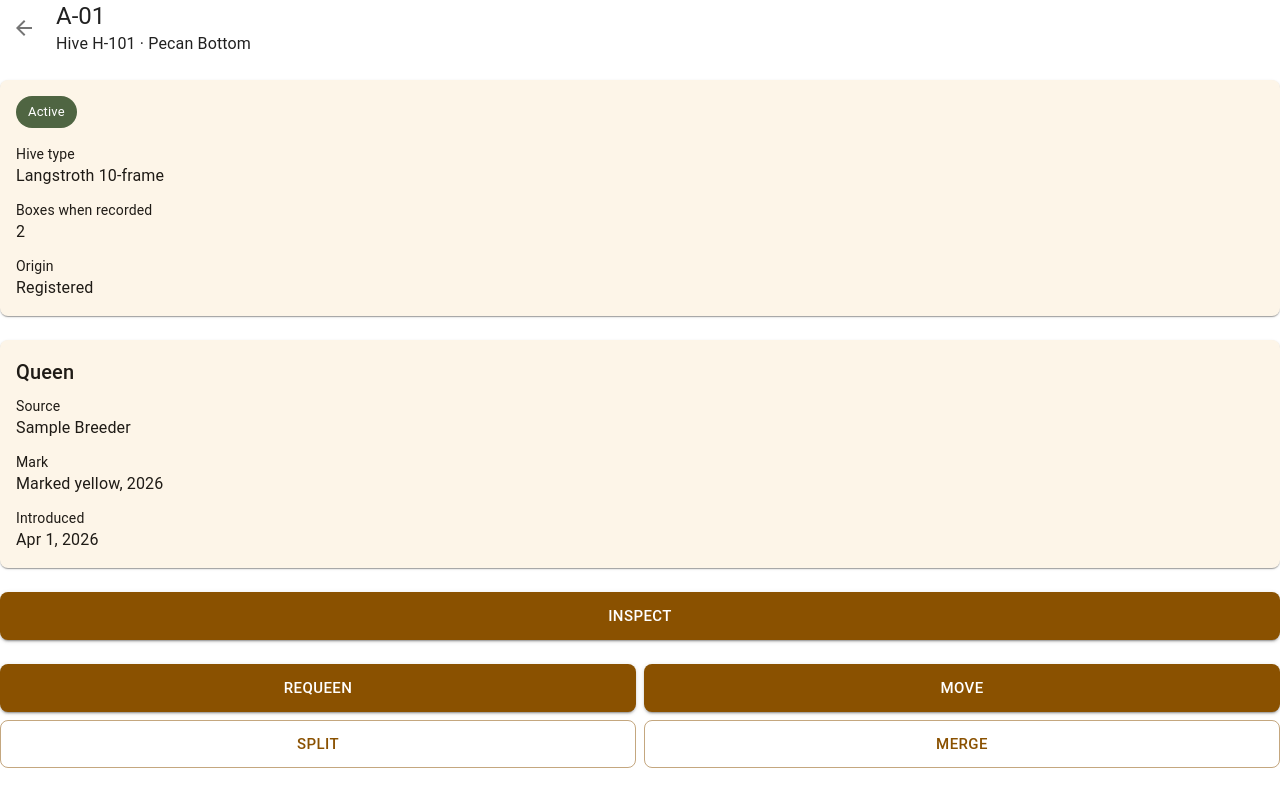
Scenario: ColonyDetail › should keep the dialog open and say to retry when the colony changed during the action
Click the button "Move".
click(962, 688)  # box x1=644 y1=664 x2=1279 y2=712
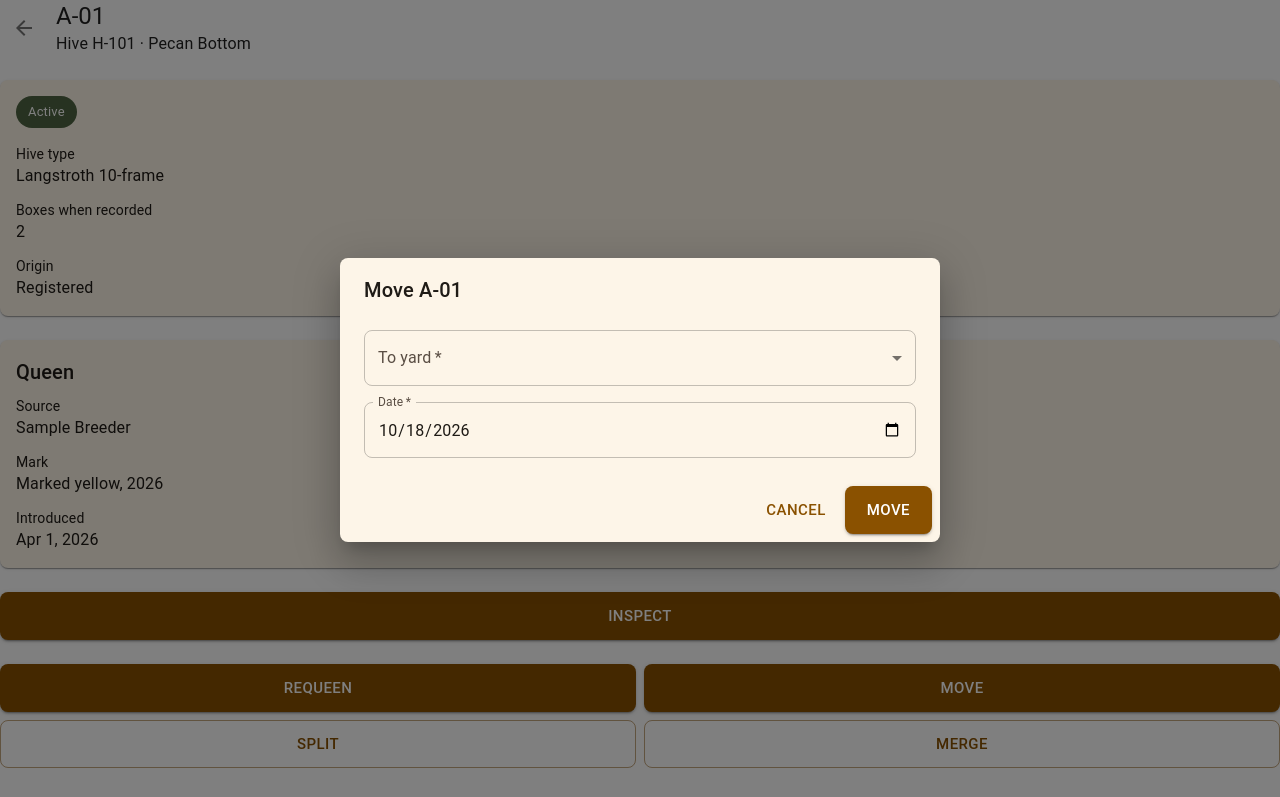
Click the dropdown named "To yard".
click(640, 358)  # box x1=364 y1=330 x2=916 y2=386
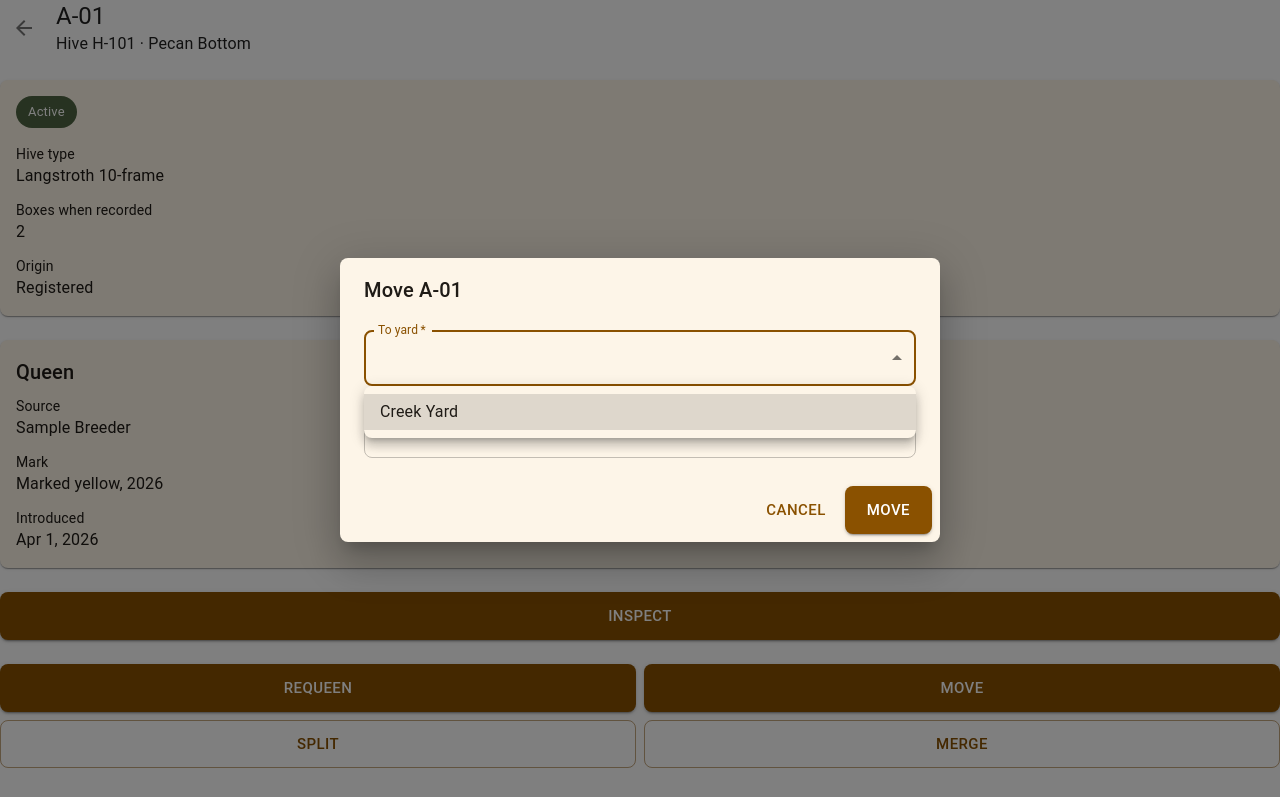
Click the option "Creek Yard".
click(419, 412)  # box x1=364 y1=394 x2=916 y2=430
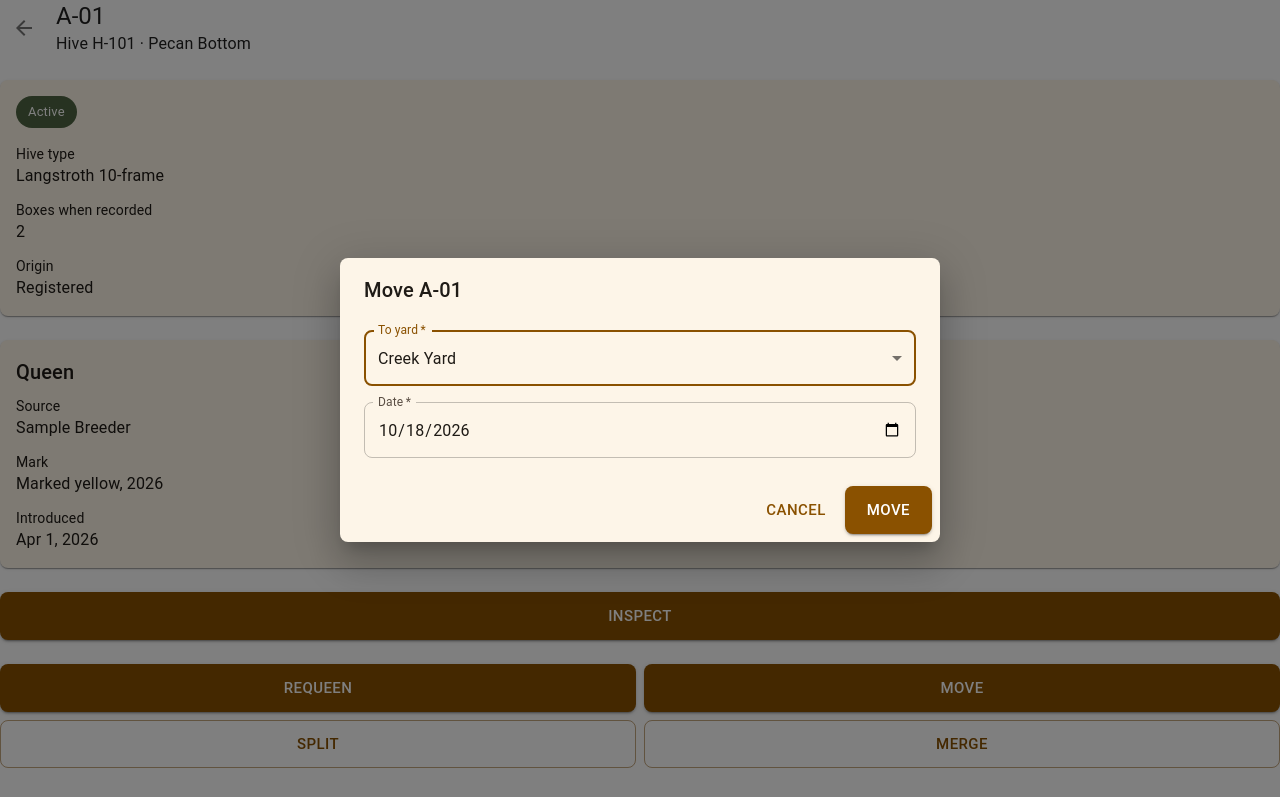
Click the button "Move".
click(888, 510)  # box x1=845 y1=486 x2=932 y2=534
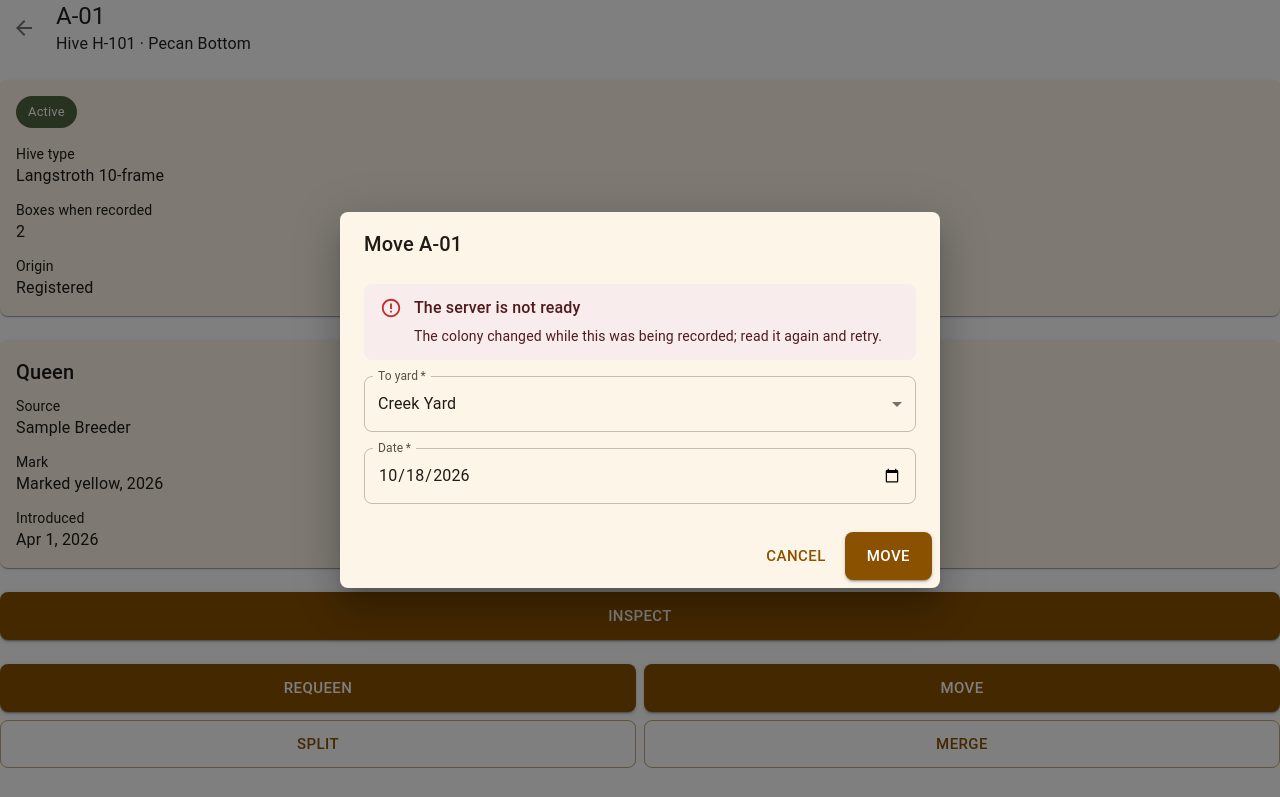
expect the text "The colony changed while this was being recorded; read it again and retry." is shown: met, box x1=414 y1=328 x2=882 y2=344
